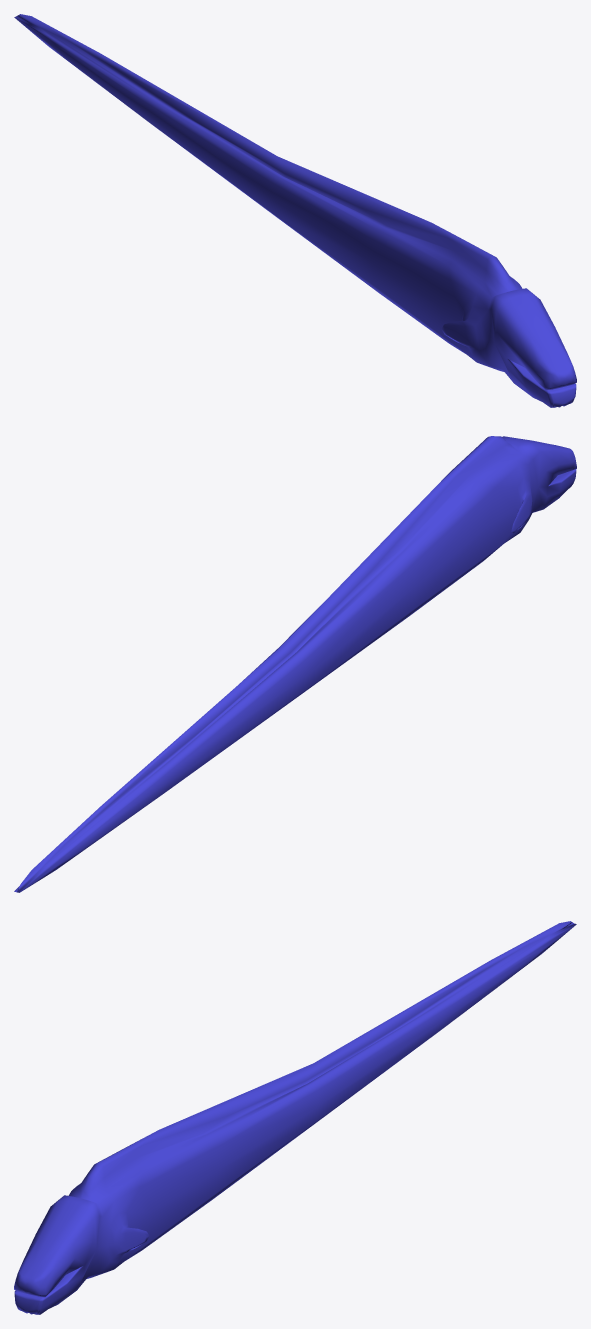
The model's file is eel.fbx.
3 views of the same model, one above another, from view 1: azimuth 30°, elevation 25°; view 2: azimuth 150°, elevation 25°; view 3: azimuth 330°, elevation 25° (orthographic).
Parts seen in each view (by area): view 1: eel1; view 2: eel1; view 3: eel1.
Part boxes in pixels (left/top/right/bottom): eel1: left=14, top=14, right=576, bottom=407; eel1: left=14, top=436, right=576, bottom=892; eel1: left=14, top=921, right=576, bottom=1314.
Size of the model in its own units: 0.7437 by 1.14 by 10.12.
